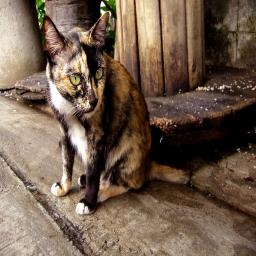catnose: (88, 95, 98, 109)
